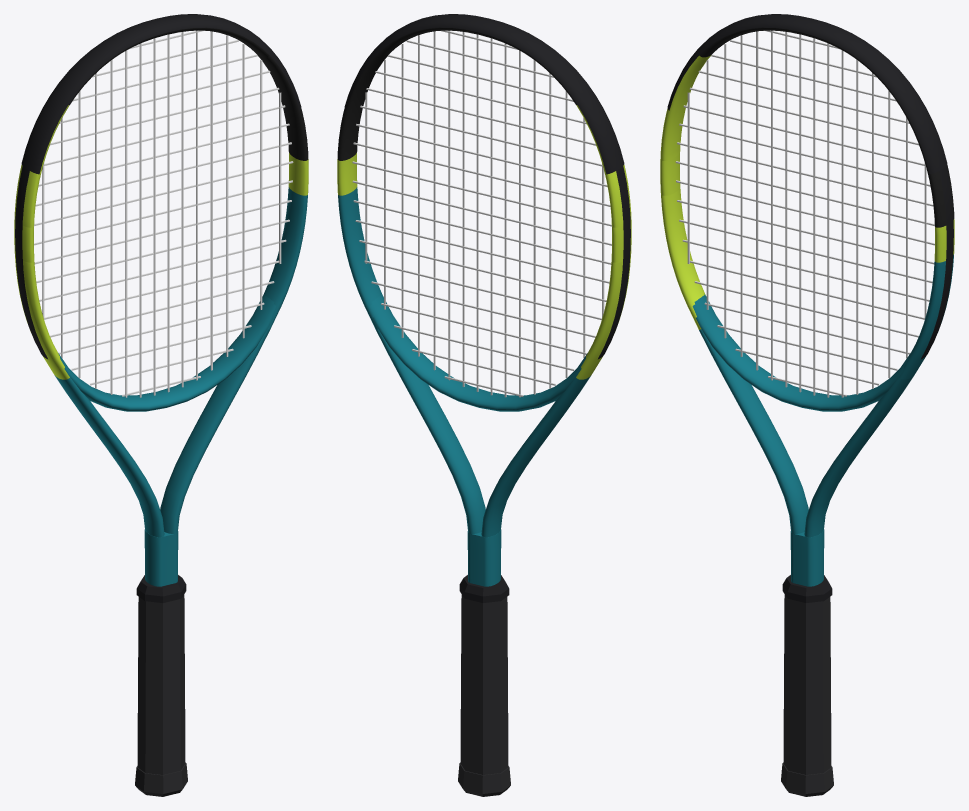
File: dunlop-sx-300-ls-2025.glb
3 views of the same model, side by side, from view 1: azimuth 30°, elevation 25°; view 2: azimuth 150°, elevation 25°; view 3: azimuth 330°, elevation 25° (orthographic).
Parts seen in each view (by area): view 1: frame, strings_mains, strings_crosses, grip, bumper, grommets, butt_cap, collar; view 2: frame, strings_mains, strings_crosses, grip, bumper, grommets, butt_cap, collar; view 3: frame, strings_mains, strings_crosses, grip, bumper, grommets, butt_cap, collar.
Boxes of the visible parts, <box> form: frame: <box>14,27,308,586</box>; strings_mains: <box>42,30,281,397</box>; strings_crosses: <box>34,30,293,396</box>; grip: <box>137,594,185,774</box>; bumper: <box>21,14,301,174</box>; grommets: <box>15,166,47,359</box>; butt_cap: <box>135,762,187,796</box>; collar: <box>136,575,186,602</box>; frame: <box>337,27,631,586</box>; strings_mains: <box>365,30,604,397</box>; strings_crosses: <box>352,30,611,396</box>; grip: <box>460,594,508,774</box>; bumper: <box>344,14,624,174</box>; grommets: <box>598,166,630,359</box>; butt_cap: <box>458,762,510,796</box>; collar: <box>459,575,509,602</box>; frame: <box>660,27,954,586</box>; strings_mains: <box>687,30,926,397</box>; strings_crosses: <box>675,30,934,396</box>; grip: <box>783,594,831,774</box>; bumper: <box>667,14,947,174</box>; grommets: <box>921,166,953,359</box>; butt_cap: <box>781,762,833,796</box>; collar: <box>782,575,832,602</box>.
Bounding box in the file's own units: 0.2687 × 0.6861 × 0.0377.
